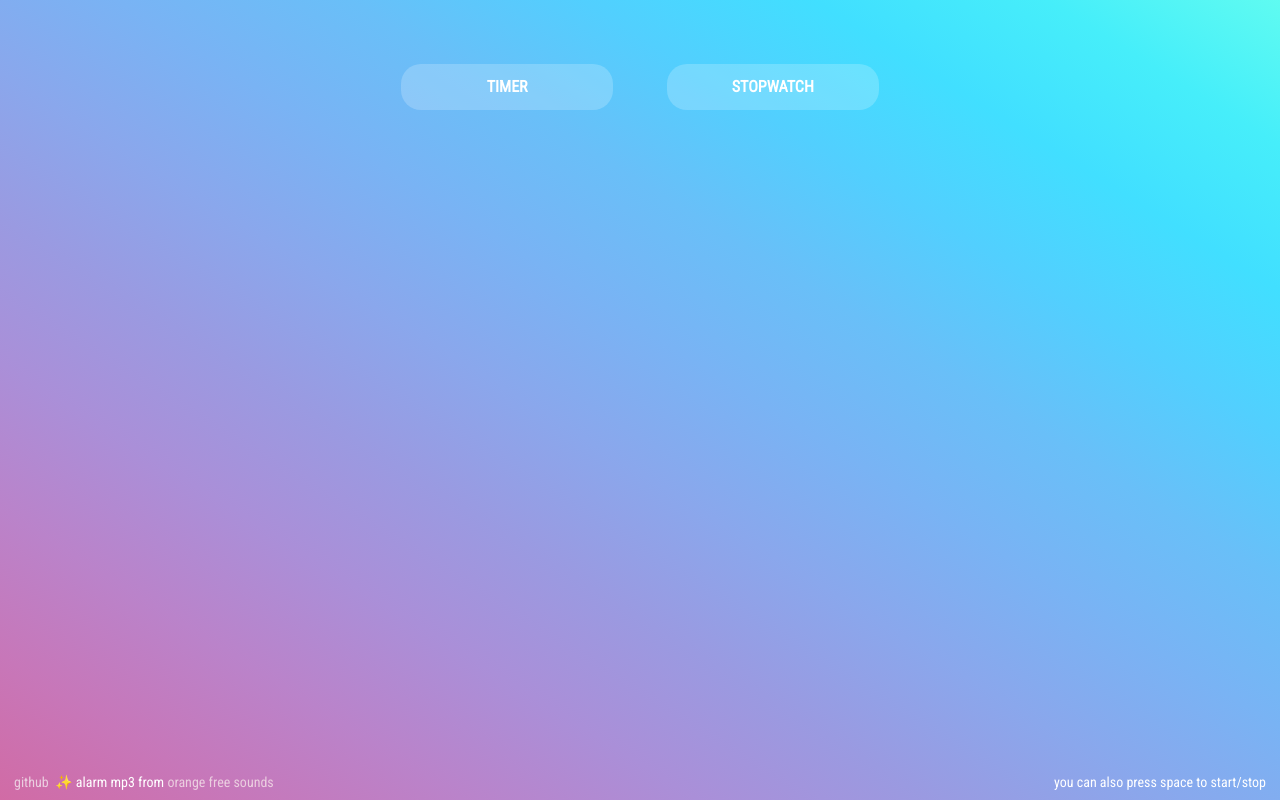
Scenario: App › Timer and stopwatch switching › When the timer button is clicked › Switches to the timer component
What coordinates should you click on to do the following:
click the button with class "timer-selector"
I would click on:
 (507, 87)
Its box is [401,64,613,110].
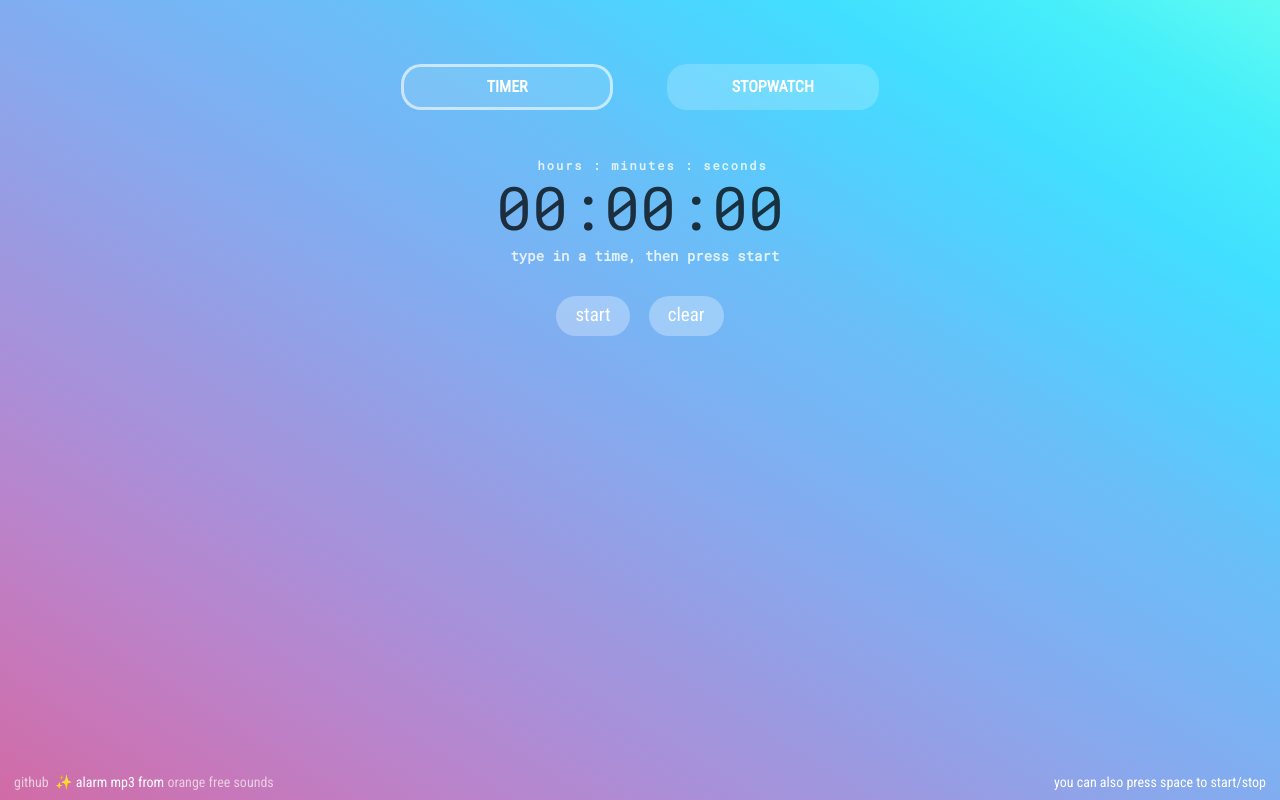
Check: the button with class "stopwatch-selector" is enabled, box [666,64,879,110]
Check: the button with class "timer-selector" is disabled, box [401,64,613,110]
